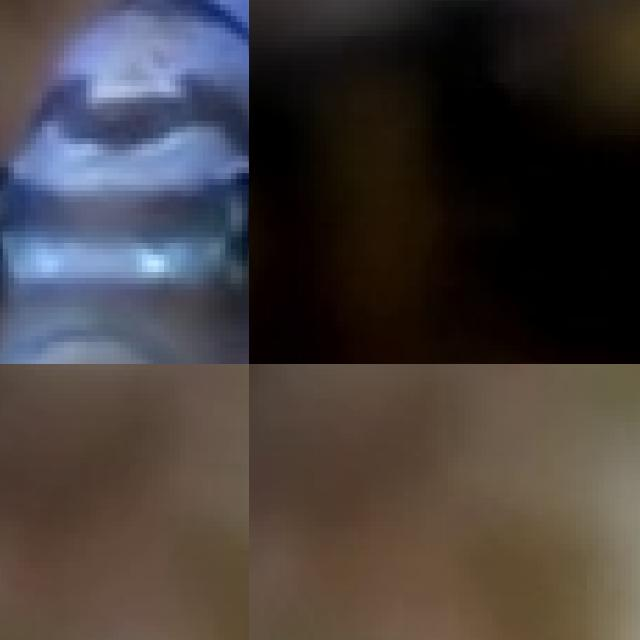fish: (249, 0, 640, 364), (0, 0, 249, 364)
